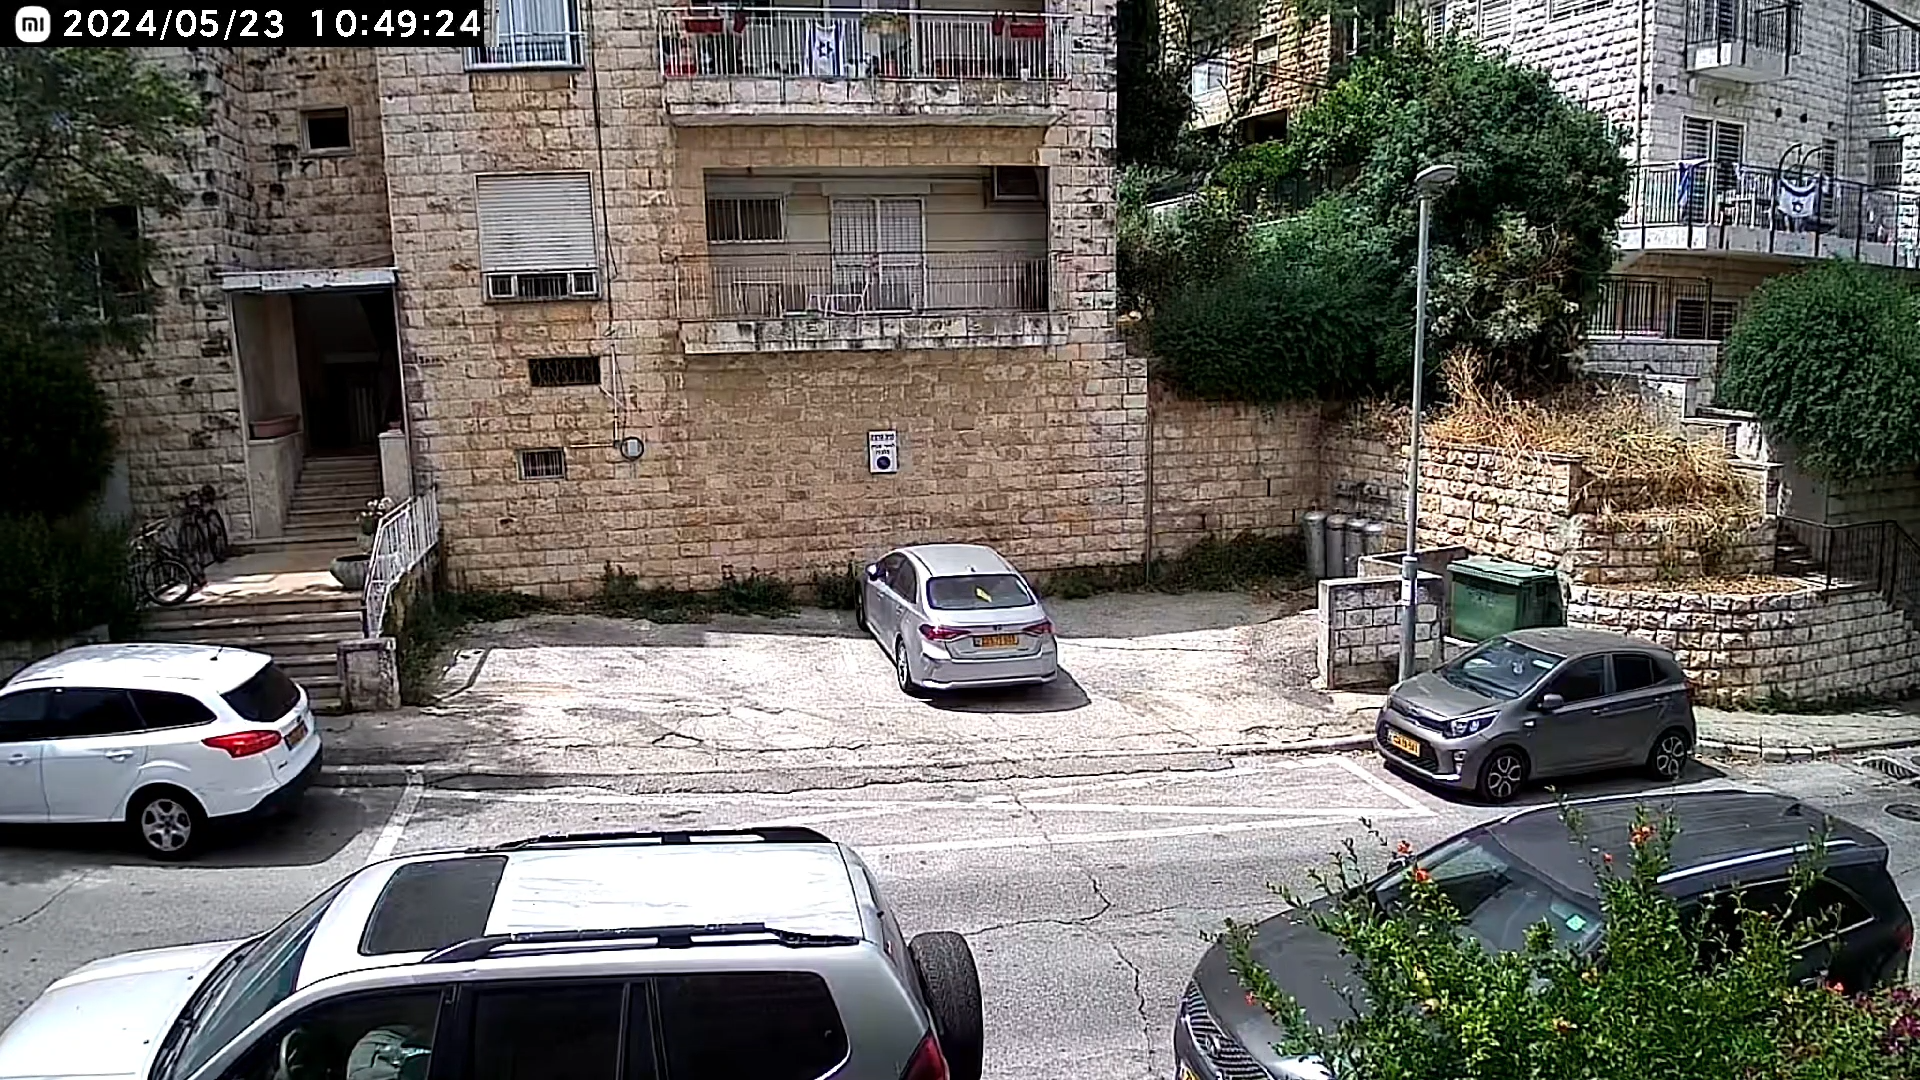moving_car: (910, 491, 1215, 640)
